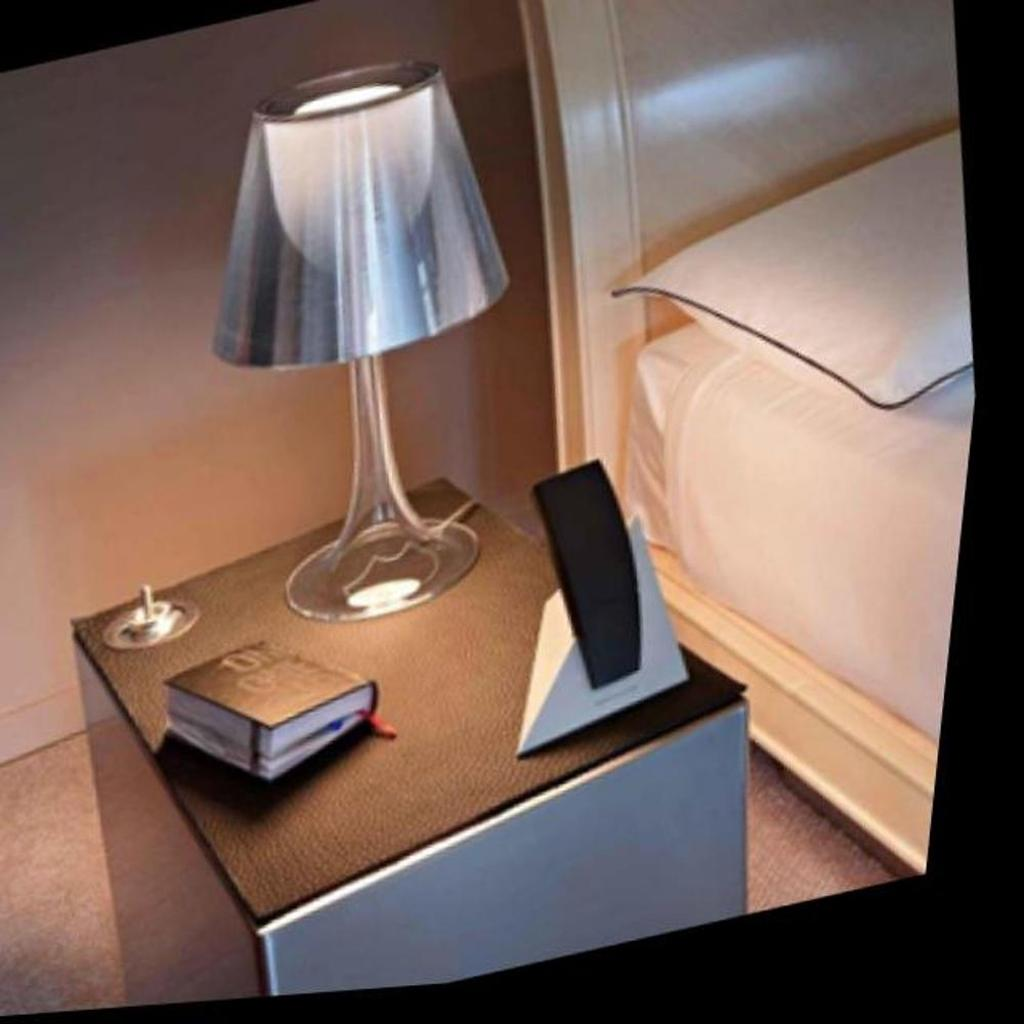shelf: (151, 15, 601, 662)
